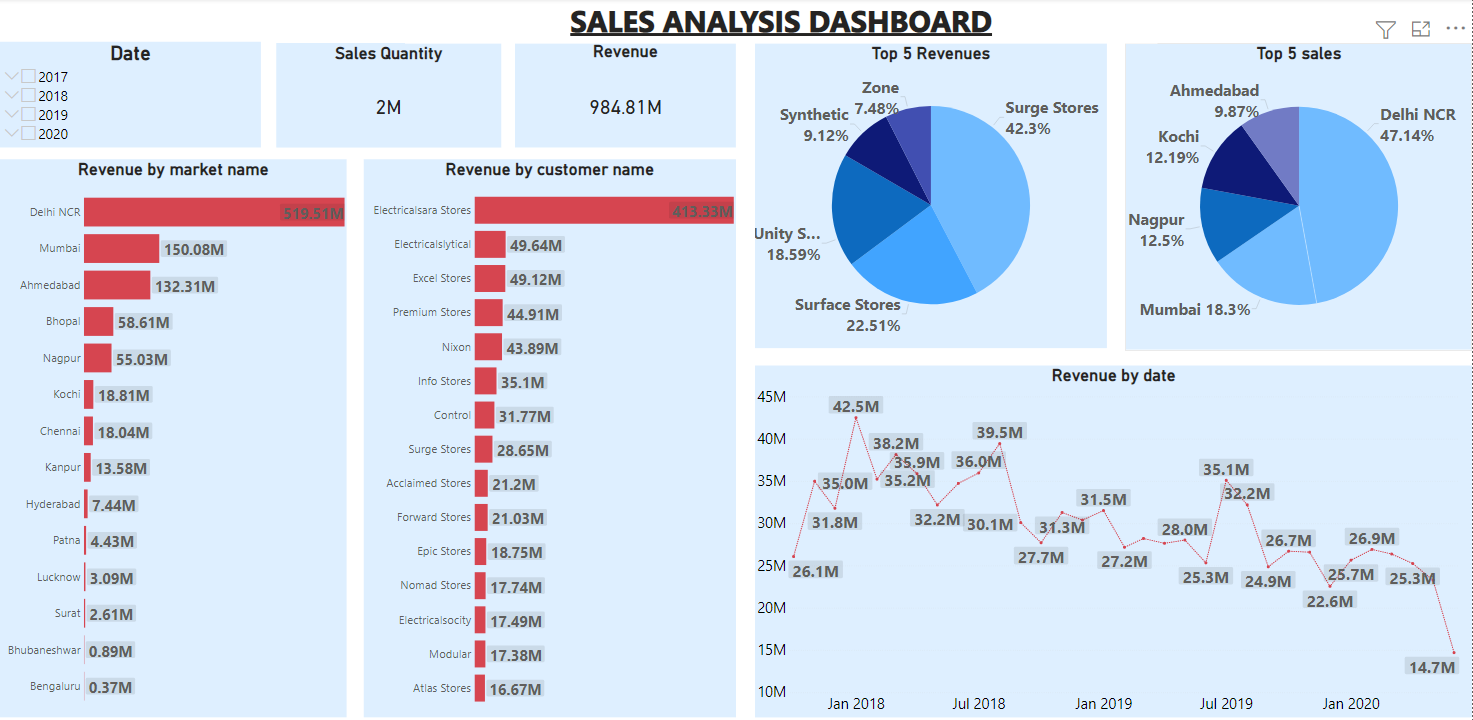

Layout of this report page (visuals, bound fields, positions):
{"tool":"powerbi","page":{"name":"Page 1","canvas":[4000,2000],"ordinal":0},"visuals":[{"type":"card","title":"Revenue","fields":{"Values":["BaseMeasure.Revenue"]},"box":[1400,120,600,287.3],"z":0},{"type":"card","title":"Sales Quantity","fields":{"Values":["BaseMeasure.Sales Qty"]},"box":[749.1,123.6,610.9,283.6],"z":1000},{"type":"clusteredBarChart","title":"Revenue by market name","fields":{"Category":["sales markets.markets_name"],"Y":["BaseMeasure.Revenue"]},"box":[0,436.4,941.8,1516.4],"z":2000},{"type":"clusteredBarChart","fields":{"Y":["BaseMeasure.Revenue"],"Category":["sales customers.custmer_name"]},"box":[989.1,436.4,1010.9,1516.4],"z":3000},{"type":"slicer","title":"Date","fields":{"Values":["sales date.cy_date.Variation.Date Hierarchy.Year","sales date.cy_date.Variation.Date Hierarchy.Month"]},"box":[0,120,709.1,287.3],"z":4000},{"type":"lineChart","title":"Revenue by date","fields":{"Y":["BaseMeasure.Revenue"],"Category":["sales date.cy_date"]},"box":[2050.9,1000,1949.1,956.4],"z":5000},{"type":"pieChart","title":"Top 5 sales","fields":{"Category":["sales markets.markets_name"],"Y":["Sum(sales transactions.sales_qty)"]},"box":[3054.5,123.6,945.5,832.7],"z":6000},{"type":"pieChart","title":"Top 5 Revenues","fields":{"Category":["sales customers.custmer_name"],"Y":["BaseMeasure.Revenue"]},"box":[2050.9,123.6,956.4,829.1],"z":7000},{"type":"textbox","box":[1101.8,0,2043.6,123.6],"z":8000}]}

Visuals, with their boxes in screenshot pixels (x1, y1, x2, y2), scaled from the page's 4000x2000 canvas onto the 1473x720 screenshot:
"Revenue" card: 516/43/736/147
"Sales Quantity" card: 276/44/501/147
"Revenue by market name" clusteredBarChart: 0/157/347/703
clusteredBarChart - BaseMeasure.Revenue x sales customers.custmer_name: 364/157/736/703
"Date" slicer: 0/43/261/147
"Revenue by date" lineChart: 755/360/1472/704
"Top 5 sales" pieChart: 1125/44/1472/344
"Top 5 Revenues" pieChart: 755/44/1107/343
textbox: 406/0/1158/44
